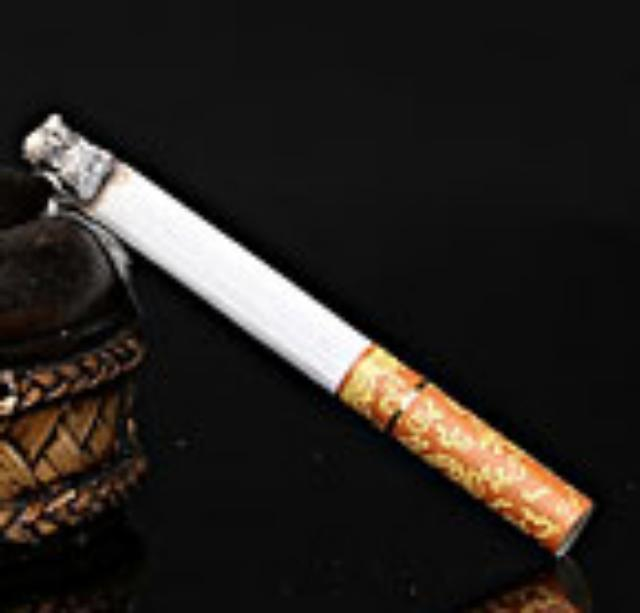Smoking: (22, 109, 598, 556)
